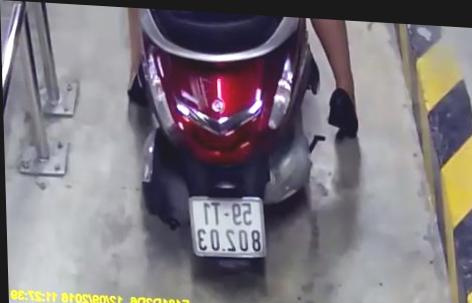License_Plate: (180, 181, 276, 267)
